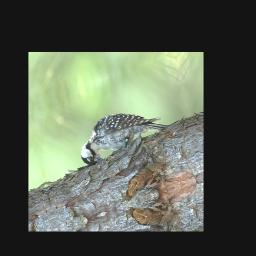Woodpecker: (75, 94, 171, 168)
